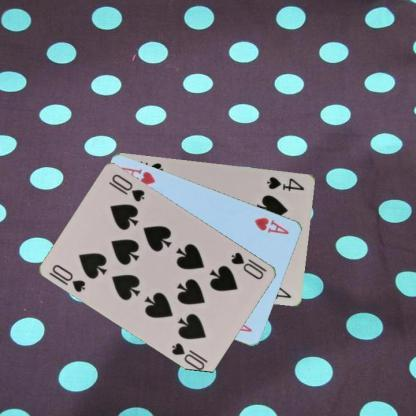10s: (50, 261, 88, 294), (228, 248, 265, 281)
4s: (264, 174, 306, 192)
Ah: (252, 214, 291, 235)
